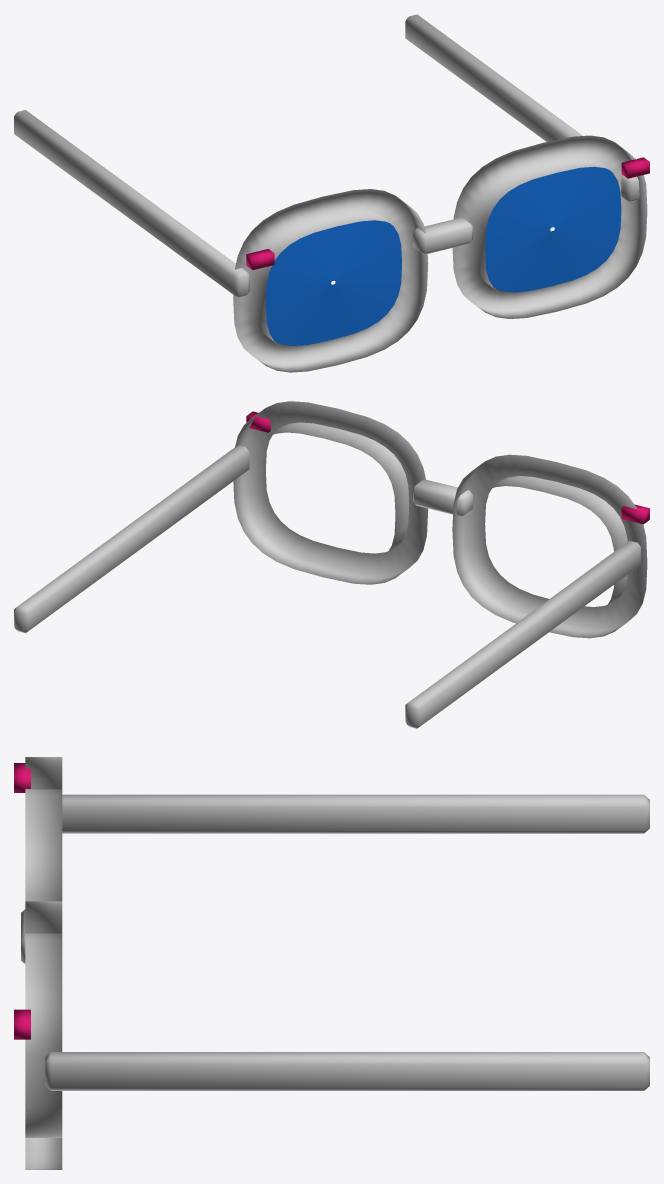
Rendered from accessory_glasses.glb.
The picture shows the model from 3 angles, top to bottom: view 1: azimuth 30°, elevation 25°; view 2: azimuth 150°, elevation 25°; view 3: azimuth 270°, elevation 25°; orthographic projection. The views are drawn at different scales.
Parts seen in each view (by area): view 1: garment_accessory_glasses; view 2: garment_accessory_glasses; view 3: garment_accessory_glasses.
Part boxes in pixels (left/top/right/bottom): garment_accessory_glasses: left=14, top=14, right=649, bottom=372; garment_accessory_glasses: left=14, top=401, right=649, bottom=728; garment_accessory_glasses: left=14, top=757, right=649, bottom=1169.
Bounding box in the file's own units: 0.111 × 0.0414 × 0.1115.
